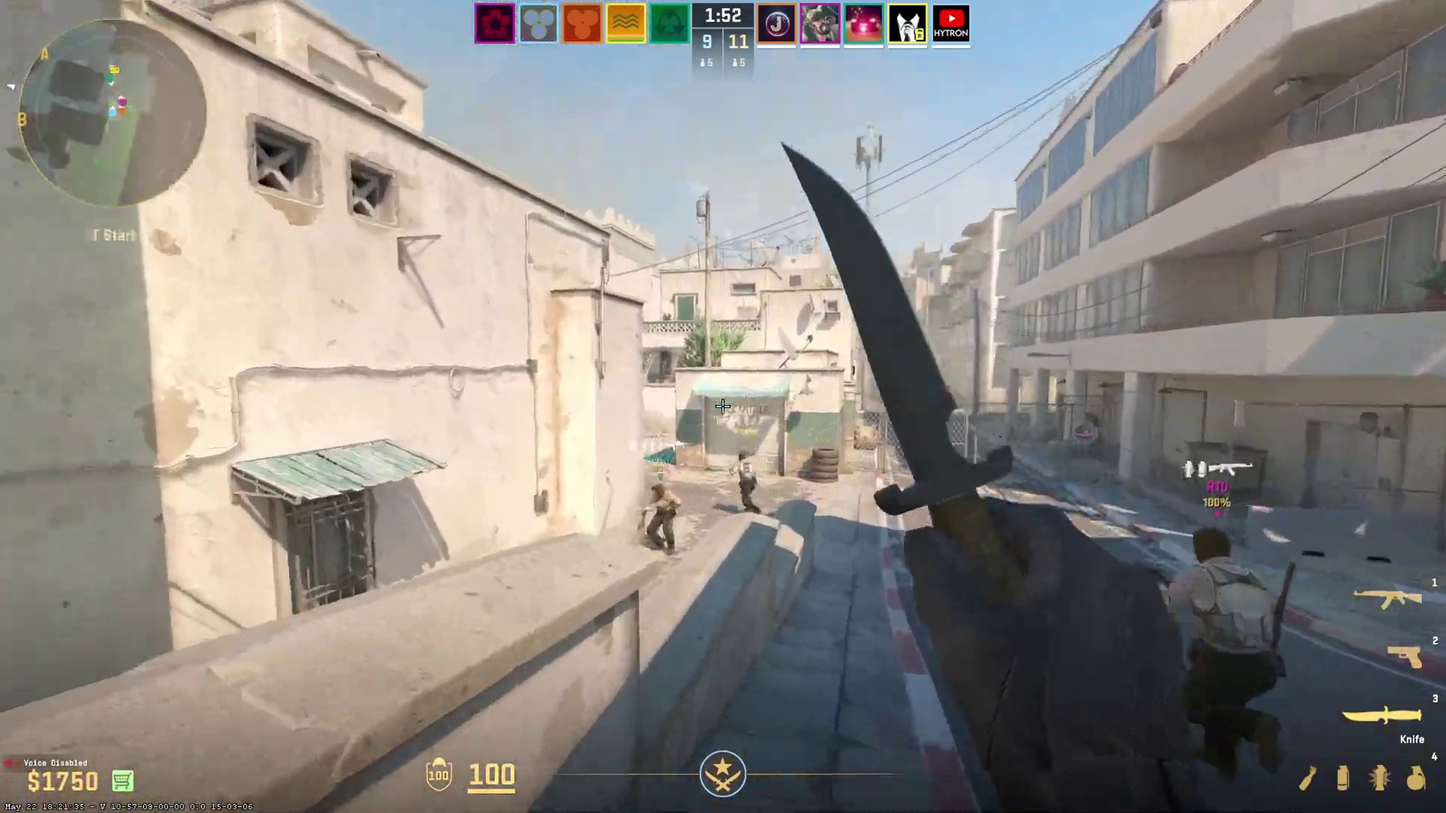Terrorist: (1178, 528, 1282, 788), (647, 485, 677, 555), (737, 454, 760, 513)
